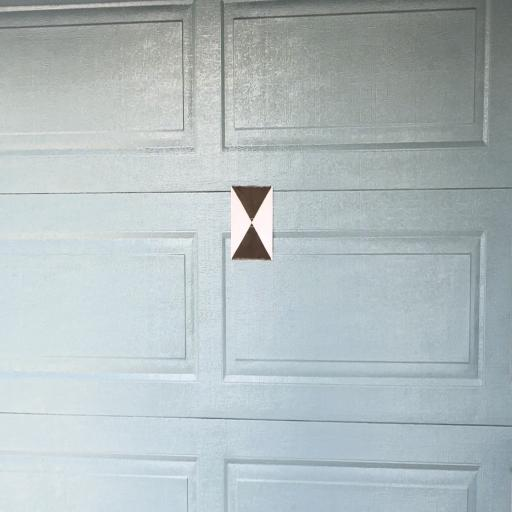target: (231, 187, 273, 260)
